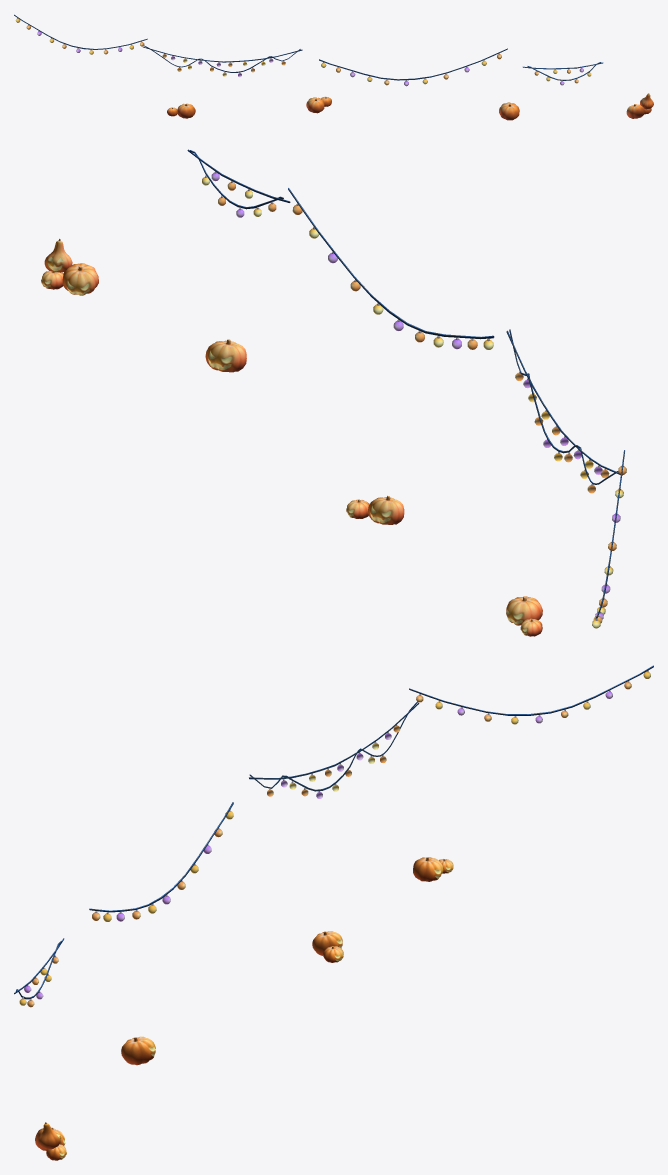
Rendered from pref_sm_4v4beachtech_WSJ_bk_decorate_R01_lv2.fbx.
3 renders of one model, top to bottom at view 1: azimuth 30°, elevation 25°; view 2: azimuth 150°, elevation 25°; view 3: azimuth 270°, elevation 25°, orthographic. The views are drawn at different scales.
Visible parts, largest first — view 1: sm_4v4beachtech_WSJ_bk_decorate_R01_a_lv2, sm_4v4beachtech_WSJ_bk_decorate_R01_b_lv2; view 2: sm_4v4beachtech_WSJ_bk_decorate_R01_a_lv2, sm_4v4beachtech_WSJ_bk_decorate_R01_b_lv2; view 3: sm_4v4beachtech_WSJ_bk_decorate_R01_a_lv2, sm_4v4beachtech_WSJ_bk_decorate_R01_b_lv2.
Part boxes in pixels (x1,y1,x2,y2): sm_4v4beachtech_WSJ_bk_decorate_R01_a_lv2: (14,14,603,86); sm_4v4beachtech_WSJ_bk_decorate_R01_b_lv2: (167,93,653,120); sm_4v4beachtech_WSJ_bk_decorate_R01_a_lv2: (187,149,626,628); sm_4v4beachtech_WSJ_bk_decorate_R01_b_lv2: (41,238,542,636); sm_4v4beachtech_WSJ_bk_decorate_R01_a_lv2: (14,665,653,1007); sm_4v4beachtech_WSJ_bk_decorate_R01_b_lv2: (35,857,453,1160).
Size of the model in its own units: 30.47 by 5.92 by 22.25.
